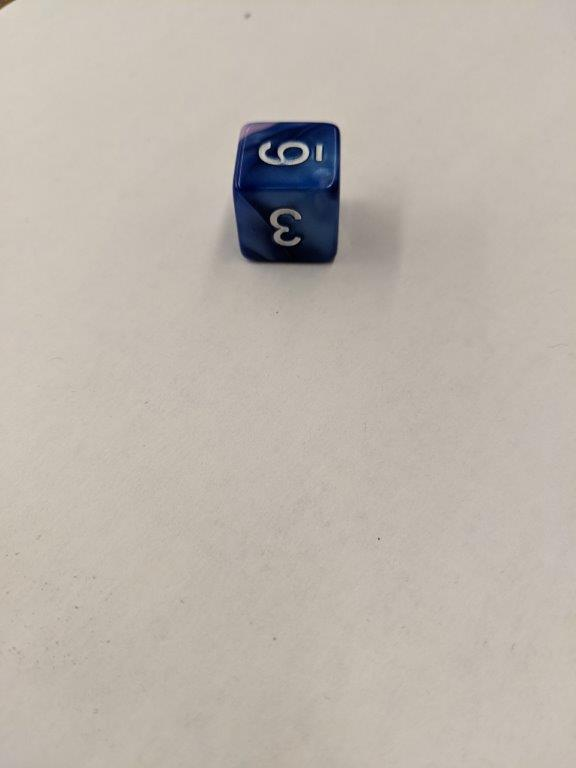d6-6: (231, 120, 342, 264)
